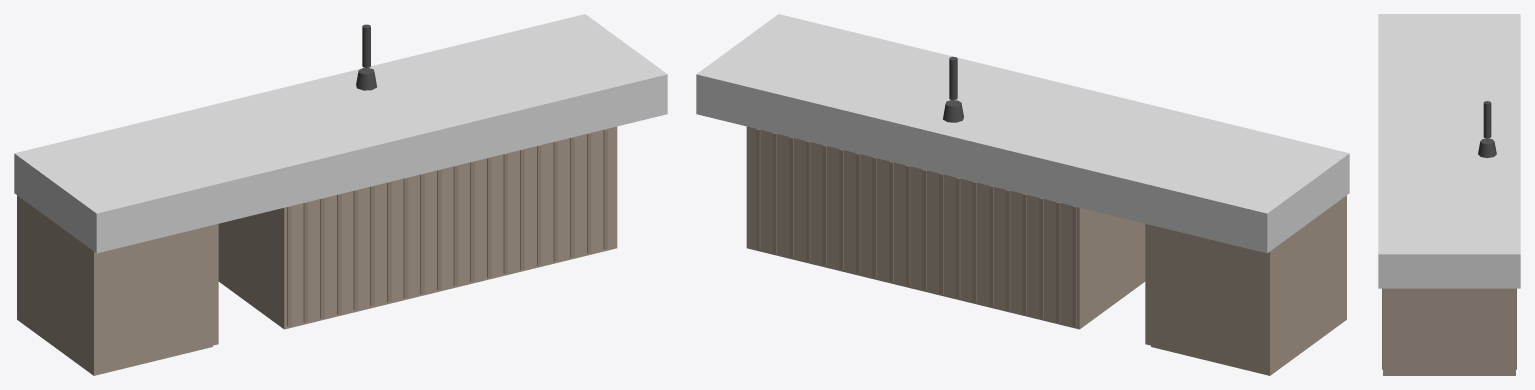
File: Urbanunitlowercabine_1a0ead70.glb
The picture shows the model from 3 angles, left to right: view 1: azimuth 30°, elevation 25°; view 2: azimuth 150°, elevation 25°; view 3: azimuth 270°, elevation 25°; orthographic projection. The views are drawn at different scales.
Size of the model in its own units: 12 by 4.5 by 3.
